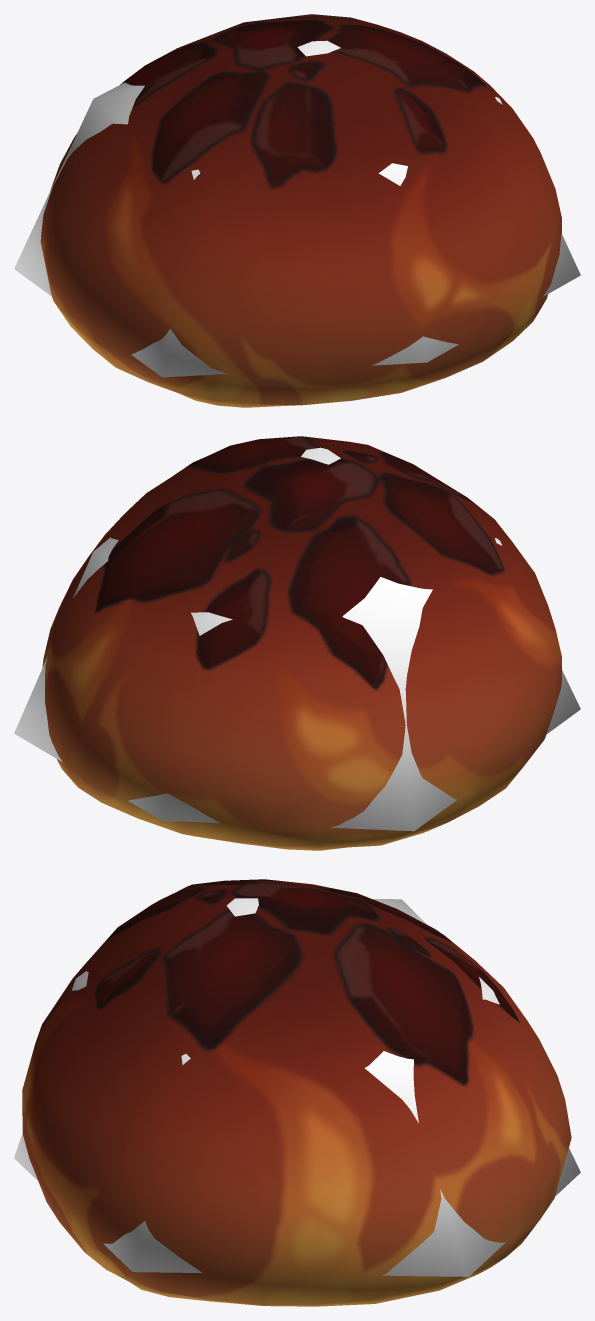
The model's file is Monster_Slime_Fire_01_Model.fbx.
3 views of the same model, one above another, from view 1: azimuth 30°, elevation 25°; view 2: azimuth 150°, elevation 25°; view 3: azimuth 270°, elevation 25° (orthographic). The views are drawn at different scales.
Visible parts, largest first — view 1: Body, EffectMesh; view 2: Body, EffectMesh; view 3: Body, EffectMesh.
Boxes of the visible parts, x1,y1,x2,y2 form: Body: (40,14,561,407); EffectMesh: (14,40,580,377); Body: (42,436,561,850); EffectMesh: (14,447,580,831); Body: (22,879,571,1306); EffectMesh: (14,898,580,1276).
Bounding box in the file's own units: 0.6927 × 0.4797 × 0.7094.
